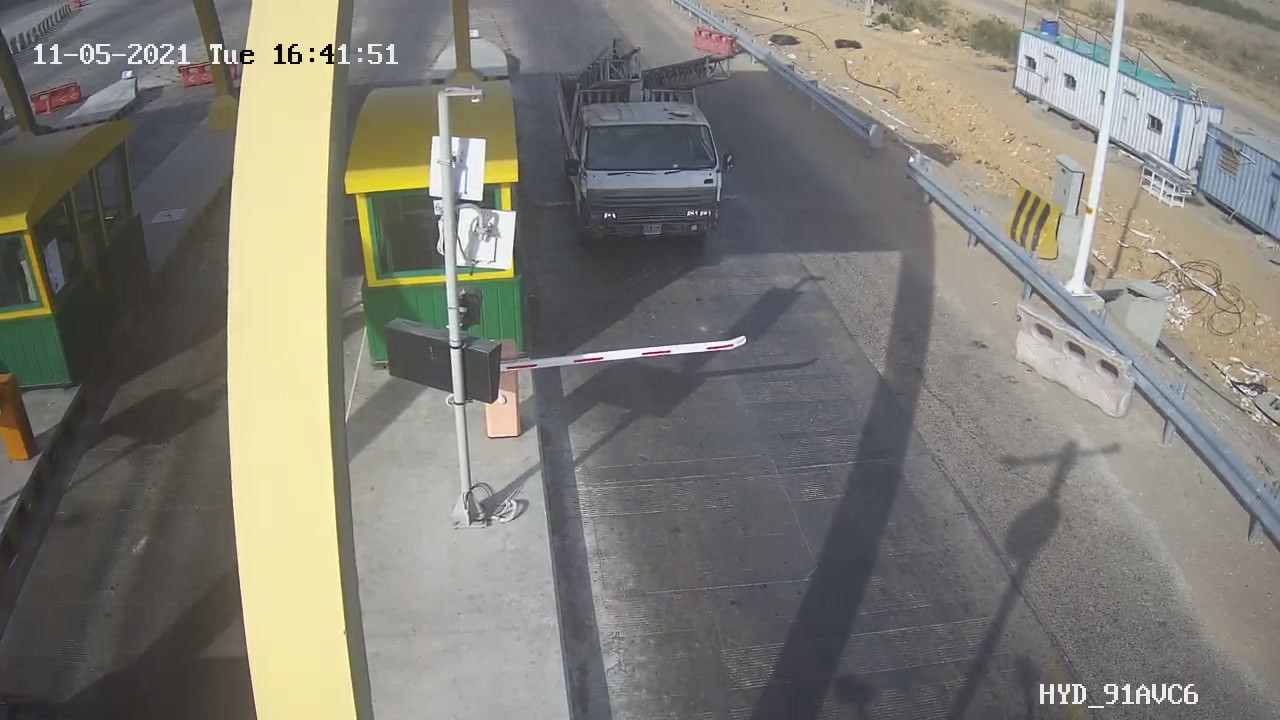F3: (537, 33, 750, 257)
